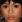without_mask: (1, 1, 22, 22)
